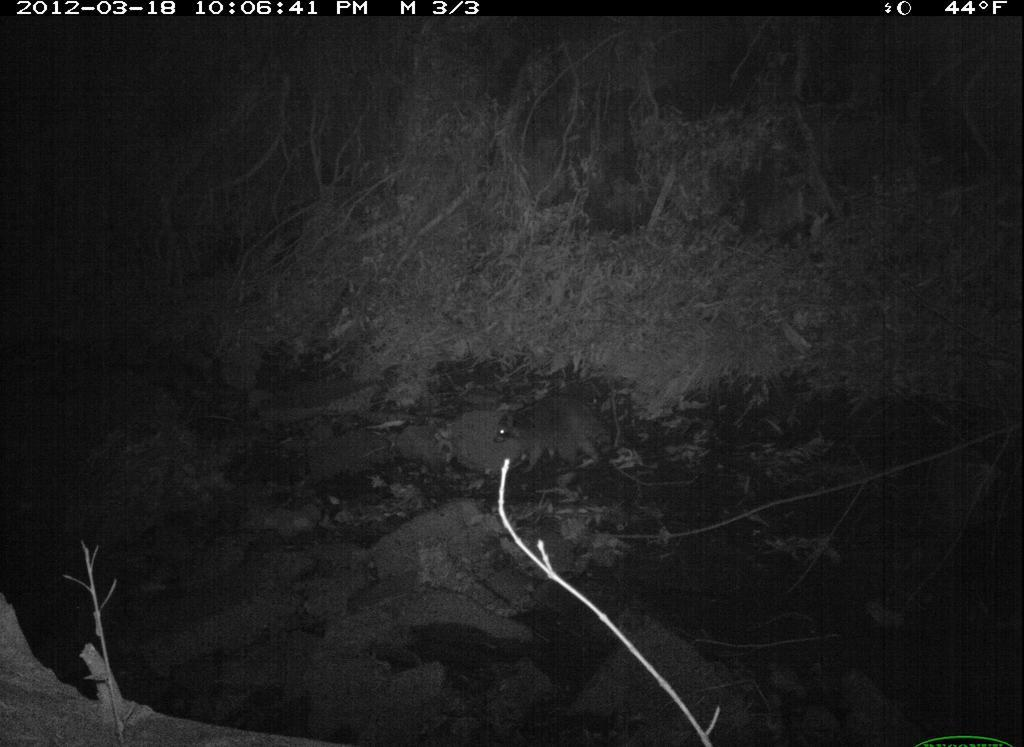raccoon: (497, 382, 651, 484)
